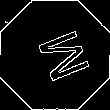M_W: (23, 24, 87, 86)
